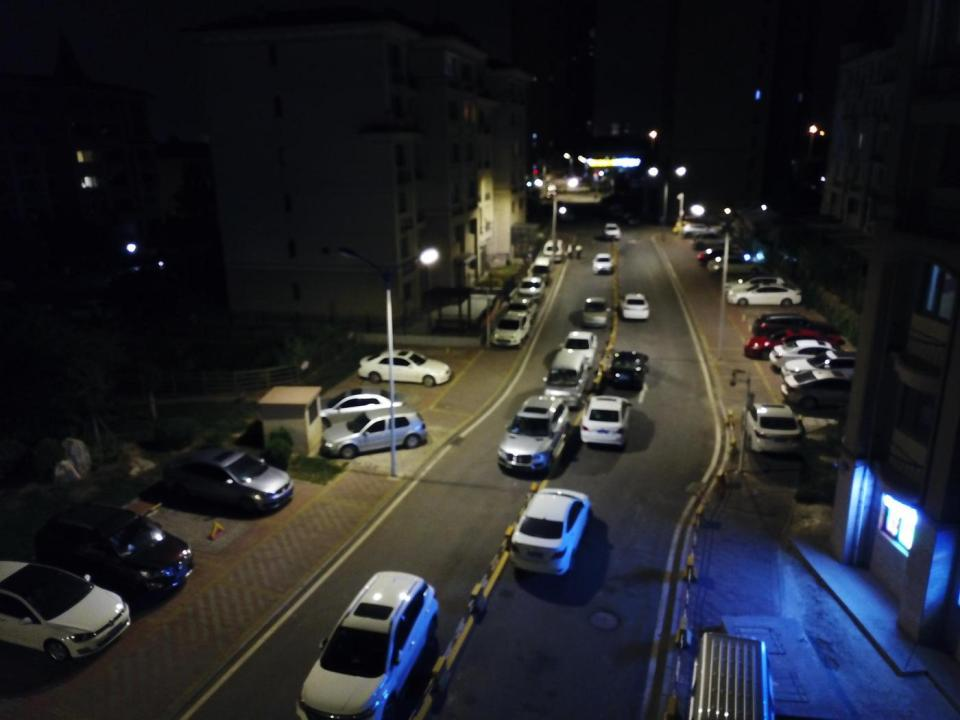car: (294, 568, 439, 720), (33, 504, 195, 602), (0, 557, 132, 663), (163, 446, 296, 517), (513, 483, 588, 577), (496, 394, 570, 470), (320, 410, 427, 459), (304, 386, 410, 426), (780, 352, 879, 392), (741, 399, 807, 457), (781, 371, 876, 411), (746, 325, 843, 363), (357, 349, 451, 387), (752, 312, 846, 344), (770, 339, 863, 371), (580, 396, 635, 450), (610, 345, 654, 392), (727, 284, 801, 308), (722, 276, 788, 302), (554, 328, 599, 366), (492, 308, 532, 349), (706, 254, 768, 276), (697, 246, 752, 268), (581, 292, 611, 329), (619, 290, 650, 322), (693, 230, 737, 250), (507, 295, 538, 321), (673, 217, 711, 238), (682, 220, 721, 240), (518, 275, 546, 301), (542, 238, 565, 263), (590, 253, 617, 274), (599, 220, 622, 241), (560, 206, 578, 224), (625, 213, 646, 227), (610, 204, 626, 217)
van: (683, 631, 775, 720), (546, 352, 590, 408), (531, 253, 554, 284)
